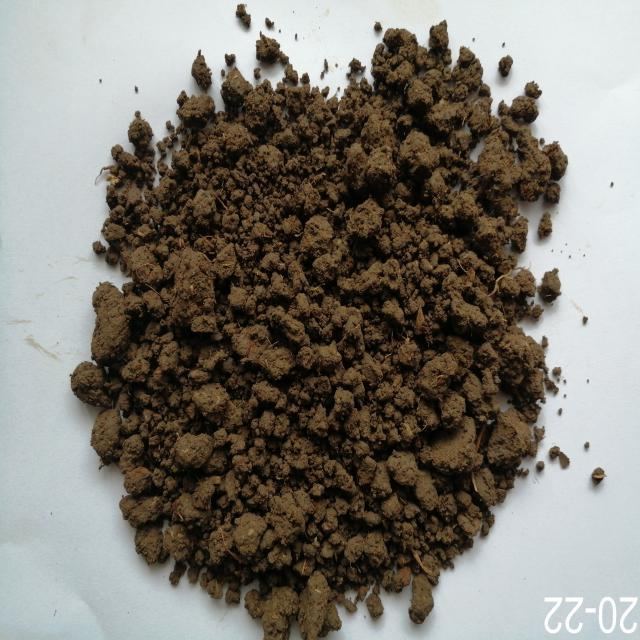soil: (164, 120, 486, 532)
